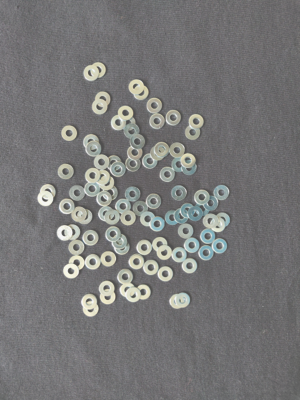circle: (60, 124, 79, 142), (135, 284, 153, 302), (80, 293, 98, 311), (213, 184, 232, 201), (85, 141, 103, 158), (184, 124, 202, 141), (36, 191, 54, 208), (100, 288, 117, 306), (167, 109, 183, 128), (81, 134, 100, 150), (68, 185, 87, 201), (81, 301, 100, 317), (90, 63, 107, 80), (95, 91, 112, 108), (147, 97, 164, 114), (149, 113, 166, 130), (120, 115, 137, 132), (94, 154, 111, 171), (58, 163, 75, 180), (40, 184, 57, 201), (77, 209, 94, 226), (83, 230, 100, 247), (105, 226, 122, 243), (119, 283, 136, 300), (109, 161, 127, 177), (149, 216, 167, 232), (120, 212, 138, 228), (58, 199, 76, 215), (111, 114, 127, 131), (183, 159, 200, 175), (84, 168, 101, 184), (95, 169, 112, 185), (194, 189, 210, 206), (212, 238, 228, 255), (184, 238, 201, 254), (183, 258, 199, 275), (157, 245, 174, 261), (153, 237, 170, 253), (125, 186, 141, 203), (139, 211, 156, 227), (115, 199, 132, 215), (97, 206, 114, 222), (97, 191, 113, 208), (102, 185, 119, 201), (65, 225, 81, 242), (56, 225, 72, 242), (68, 240, 85, 256), (101, 251, 117, 268), (114, 239, 131, 255), (129, 254, 145, 271), (144, 258, 159, 276), (99, 281, 117, 296), (189, 114, 205, 130), (181, 153, 197, 169), (160, 167, 176, 183), (171, 185, 187, 201), (180, 203, 196, 219), (203, 214, 219, 230), (199, 245, 215, 261), (178, 224, 194, 240), (172, 247, 188, 263), (133, 200, 149, 216), (105, 209, 121, 225), (70, 255, 86, 271), (85, 255, 101, 271), (112, 234, 128, 250), (176, 293, 192, 309), (85, 64, 100, 81), (107, 154, 122, 171), (172, 156, 187, 173), (204, 195, 219, 212), (175, 208, 190, 225), (211, 217, 226, 234), (146, 194, 163, 209), (85, 181, 100, 198), (71, 207, 88, 222), (93, 99, 108, 115), (119, 106, 135, 121), (125, 123, 140, 139), (130, 134, 146, 149), (170, 143, 185, 159), (155, 142, 170, 158), (150, 146, 166, 161), (195, 201, 211, 216), (200, 229, 216, 244), (64, 264, 79, 280), (158, 267, 174, 282), (137, 240, 152, 256), (189, 206, 203, 223), (217, 212, 231, 229), (130, 80, 145, 95), (126, 157, 141, 172), (100, 176, 115, 191), (118, 270, 133, 285), (126, 288, 141, 303), (135, 85, 149, 101), (143, 155, 159, 169), (165, 210, 179, 226), (170, 294, 184, 310), (128, 147, 143, 160)
